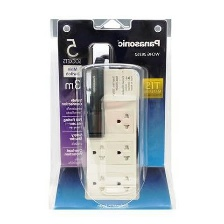book: (46, 14, 177, 213)
three_eye_plug: (82, 65, 145, 203)
